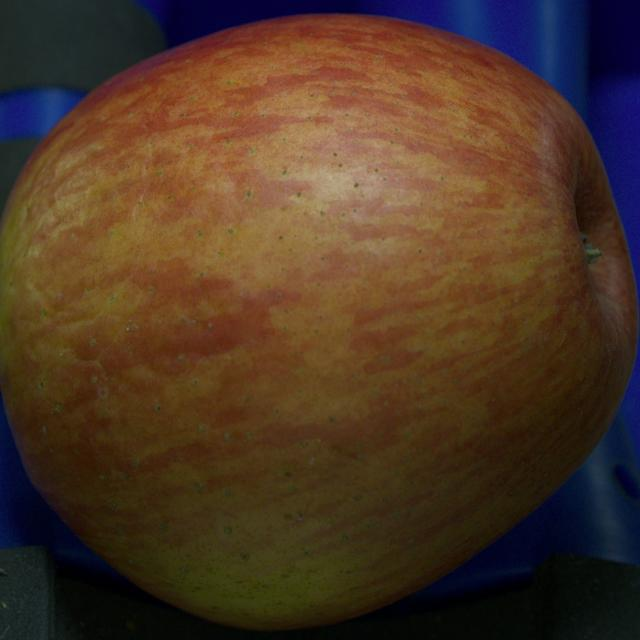apple: (0, 16, 638, 629)
bruise: (7, 111, 172, 397)
